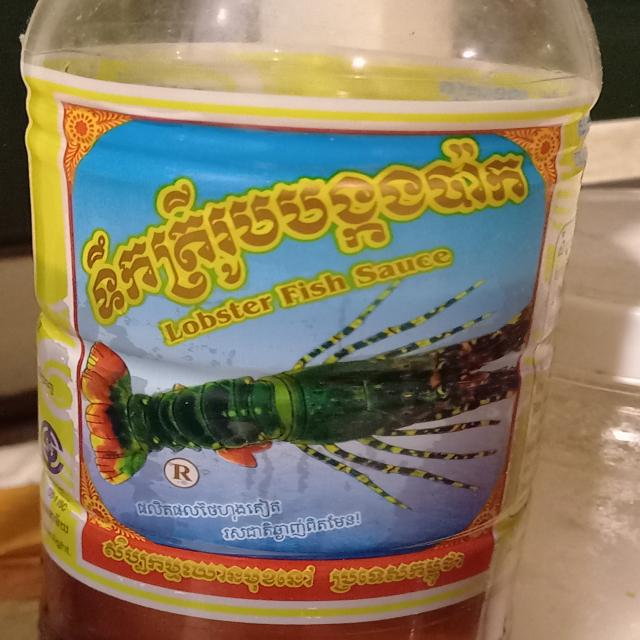Yolov11kh: (62, 124, 540, 339), (99, 527, 320, 595), (329, 542, 473, 597), (218, 508, 360, 546), (131, 492, 284, 524)
